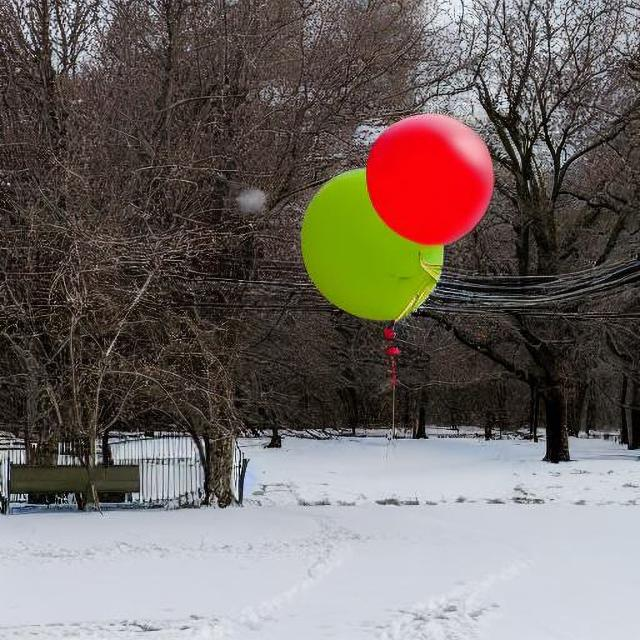balloon: (299, 124, 487, 317), (357, 113, 490, 259)
